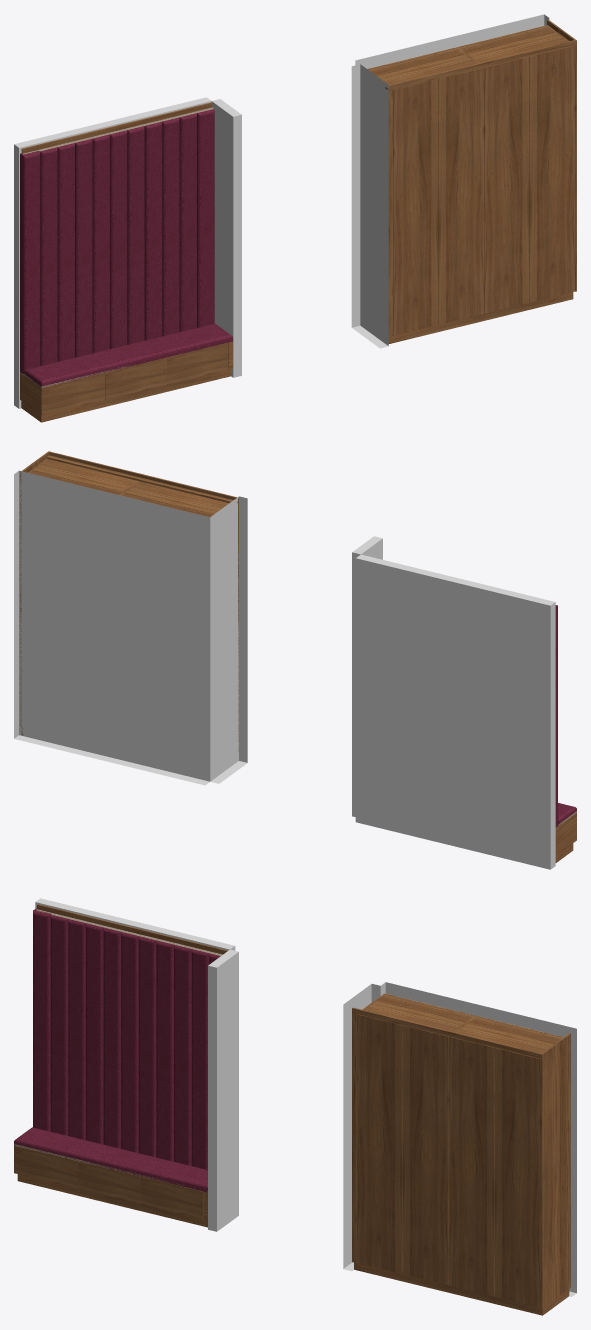
The model's file is 2-ELOSZOBA.glb.
3 renders of one model, top to bottom at view 1: azimuth 30°, elevation 25°; view 2: azimuth 150°, elevation 25°; view 3: azimuth 330°, elevation 25°, orthographic.
Visible parts, largest first — view 1: 3DGeom-133, 3DGeom-185, 3DGeom-207, 3DGeom-111, 3DGeom-79, 3DGeom-2, 3DGeom-272, 3DGeom-273, 3DGeom-293, 3DGeom-287, 3DGeom-288, 3DGeom-290 (+20 smaller); view 2: 3DGeom-1, 3DGeom-78, 3DGeom-79, 3DGeom-97, 3DGeom-82, 3DGeom-2, 3DGeom-261, 3DGeom-262, 3DGeom-73; view 3: 3DGeom-185, 3DGeom-133, 3DGeom-111, 3DGeom-207, 3DGeom-2, 3DGeom-259, 3DGeom-272, 3DGeom-289, 3DGeom-292, 3DGeom-298, 3DGeom-78, 3DGeom-273 (+18 smaller).
Boxes of the visible parts, x1,y1,x2,y2 form: 3DGeom-133: (393,79,438,335); 3DGeom-185: (484,57,529,313); 3DGeom-207: (530,45,574,302); 3DGeom-111: (439,68,483,324); 3DGeom-79: (351,64,388,348); 3DGeom-2: (211,99,241,377); 3DGeom-272: (24,323,233,387); 3DGeom-273: (21,151,40,374); 3DGeom-293: (144,121,162,340); 3DGeom-287: (92,134,109,353); 3DGeom-288: (179,113,196,331); 3DGeom-290: (57,143,74,361); 3DGeom-1: (355,554,555,869); 3DGeom-78: (14,470,210,785); 3DGeom-79: (210,496,247,783); 3DGeom-97: (30,459,136,494); 3DGeom-82: (122,481,228,516); 3DGeom-2: (352,536,382,816); 3DGeom-261: (47,455,237,503); 3DGeom-262: (49,451,238,502); 3DGeom-73: (555,813,576,855); 3DGeom-185: (448,1037,494,1296); 3DGeom-133: (356,1014,402,1273); 3DGeom-111: (402,1025,448,1285); 3DGeom-207: (495,1048,540,1307); 3DGeom-2: (208,949,238,1231); 3DGeom-259: (540,1033,570,1308); 3DGeom-272: (14,1127,207,1192); 3DGeom-289: (85,923,103,1144); 3DGeom-292: (138,936,156,1157); 3DGeom-298: (50,914,68,1135); 3DGeom-78: (380,982,576,1296); 3DGeom-273: (33,909,51,1131).
Size of the model in its own units: 6.06 by 2.85 by 0.662.
13 materials, 5 textured.
